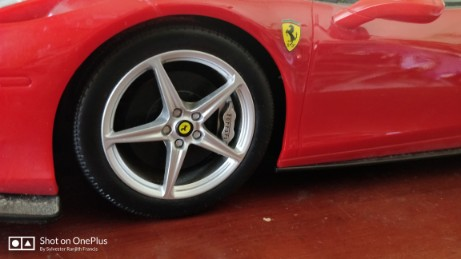unaligned_wheel: (55, 26, 289, 220)
